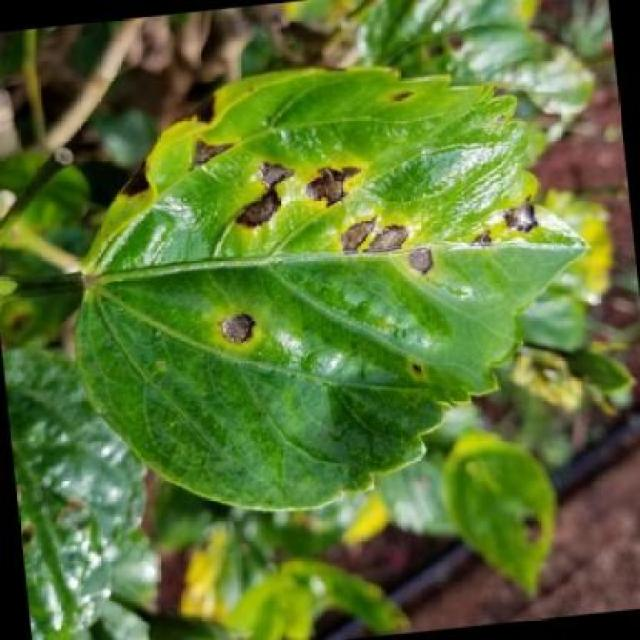Tomato leaf bacterial spot: (49, 34, 620, 538)
